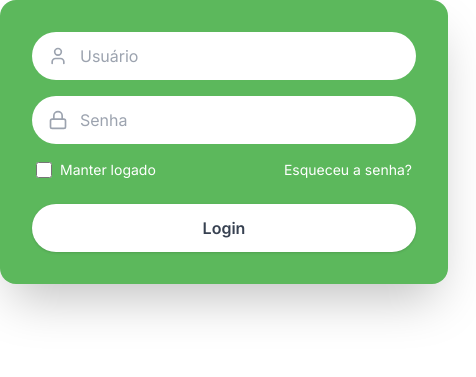
Scenario: LoginForm › mostra erro se campos vazios
Click the button "Login" at (224, 228), box top-left (32, 204), bottom-right (416, 252)
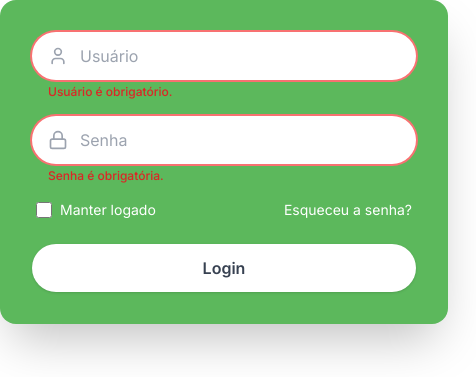
Expected: the text "Usuário é obrigatório." is shown, top-left (48, 84), bottom-right (172, 99)
